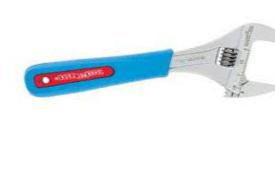wrench: (27, 44, 111, 183)
